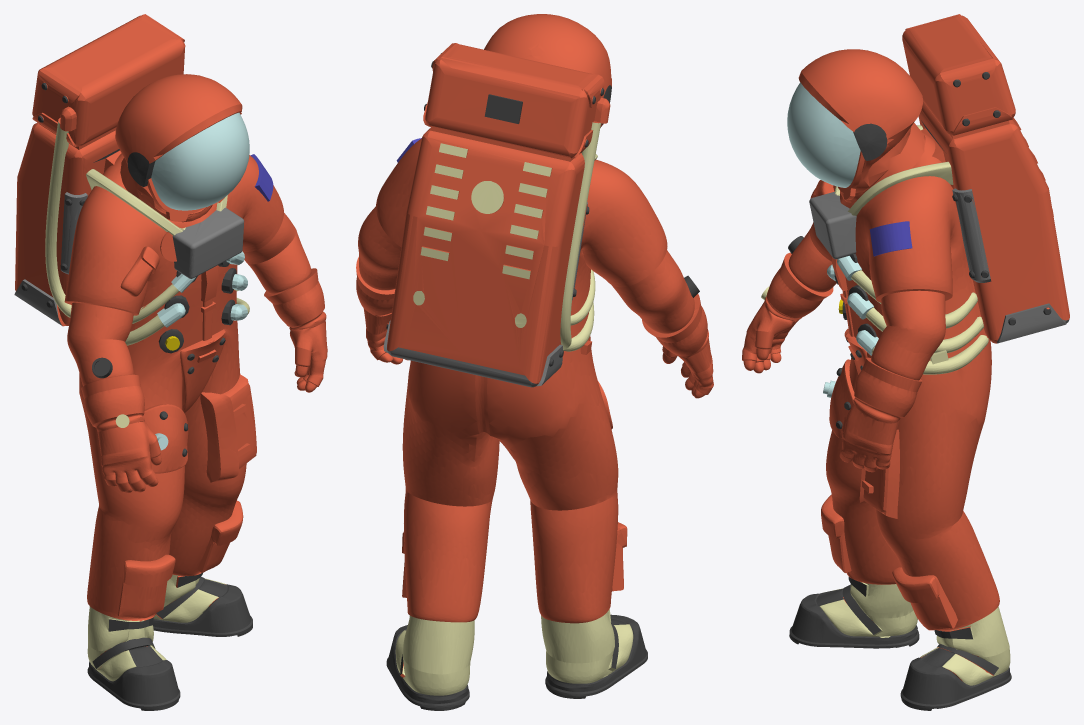
Rendered from astronaut.fbx.
The picture shows the model from 3 angles, left to right: view 1: azimuth 30°, elevation 25°; view 2: azimuth 150°, elevation 25°; view 3: azimuth 270°, elevation 25°; orthographic projection. The views are drawn at different scales.
Parts seen in each view (by area): view 1: astronaut_suit_astronaut_suit, glass; view 2: astronaut_suit_astronaut_suit; view 3: astronaut_suit_astronaut_suit, glass.
Boxes of the visible parts, x1,y1,x2,y2 form: astronaut_suit_astronaut_suit: (14,14,327,710); glass: (151,112,249,210); astronaut_suit_astronaut_suit: (356,14,713,710); astronaut_suit_astronaut_suit: (742,14,1069,710); glass: (787,82,860,187).
Bounding box in the file's own units: 89.92 × 188 × 90.54.
